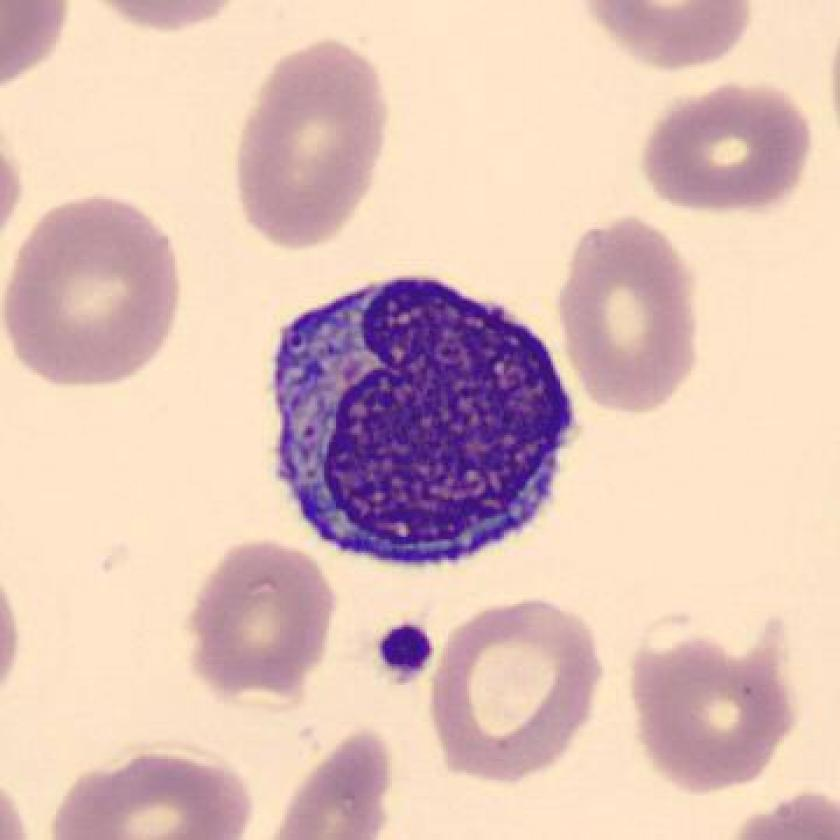monocyte: (244, 258, 598, 584)
